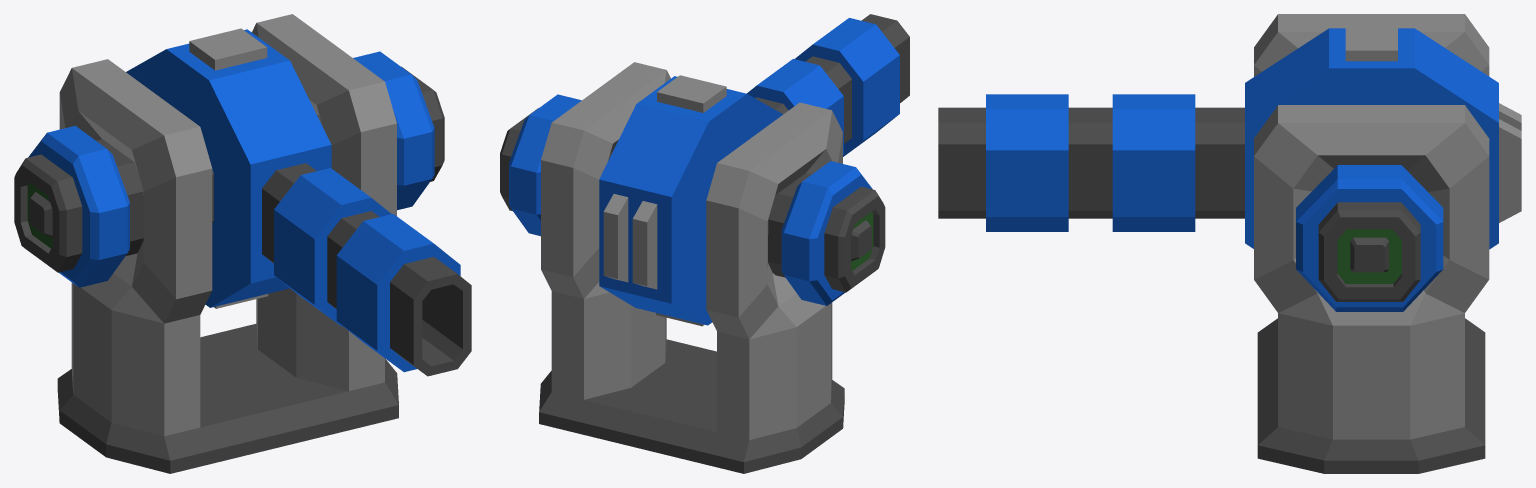
File: DroneLaser.fbx
The picture shows the model from 3 angles, left to right: view 1: azimuth 30°, elevation 25°; view 2: azimuth 150°, elevation 25°; view 3: azimuth 270°, elevation 25°; orthographic projection. The views are drawn at different scales.
Visible parts, largest first — view 1: DroneLaserBarrel, DroneLaser, DroneLaserBase; view 2: DroneLaserBarrel, DroneLaser, DroneLaserBase; view 3: DroneLaserBarrel, DroneLaser, DroneLaserBase.
Boxes of the visible parts, x1,y1,x2,y2 form: DroneLaserBarrel: (14, 28, 471, 376); DroneLaser: (59, 14, 396, 436); DroneLaserBase: (57, 324, 398, 473); DroneLaserBarrel: (500, 14, 909, 326); DroneLaser: (541, 62, 842, 440); DroneLaserBase: (539, 339, 844, 473); DroneLaserBarrel: (938, 25, 1521, 311); DroneLaser: (1254, 14, 1489, 439); DroneLaserBase: (1257, 318, 1485, 473).
Bounding box in the file's own units: 0.5088 × 0.6604 × 0.4551.
